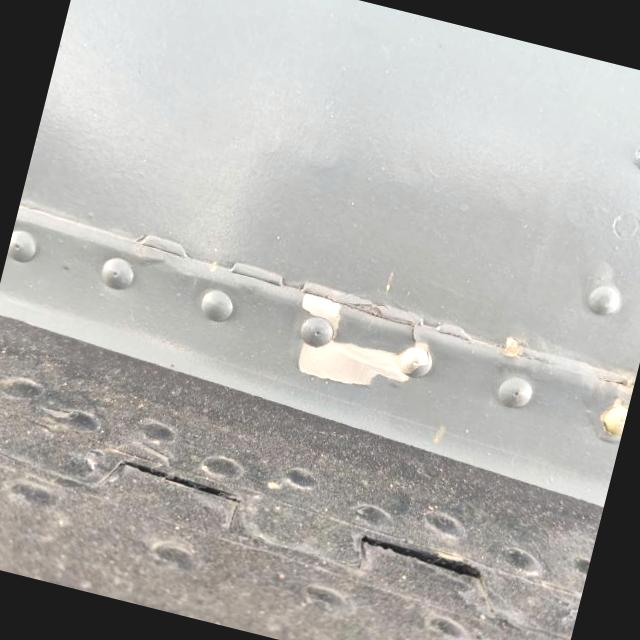paint-off: (274, 276, 446, 416)
